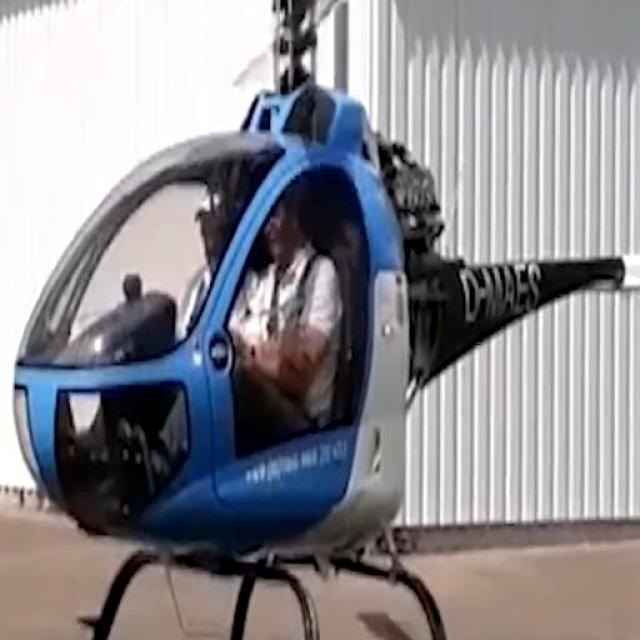drone: (6, 0, 640, 640)
